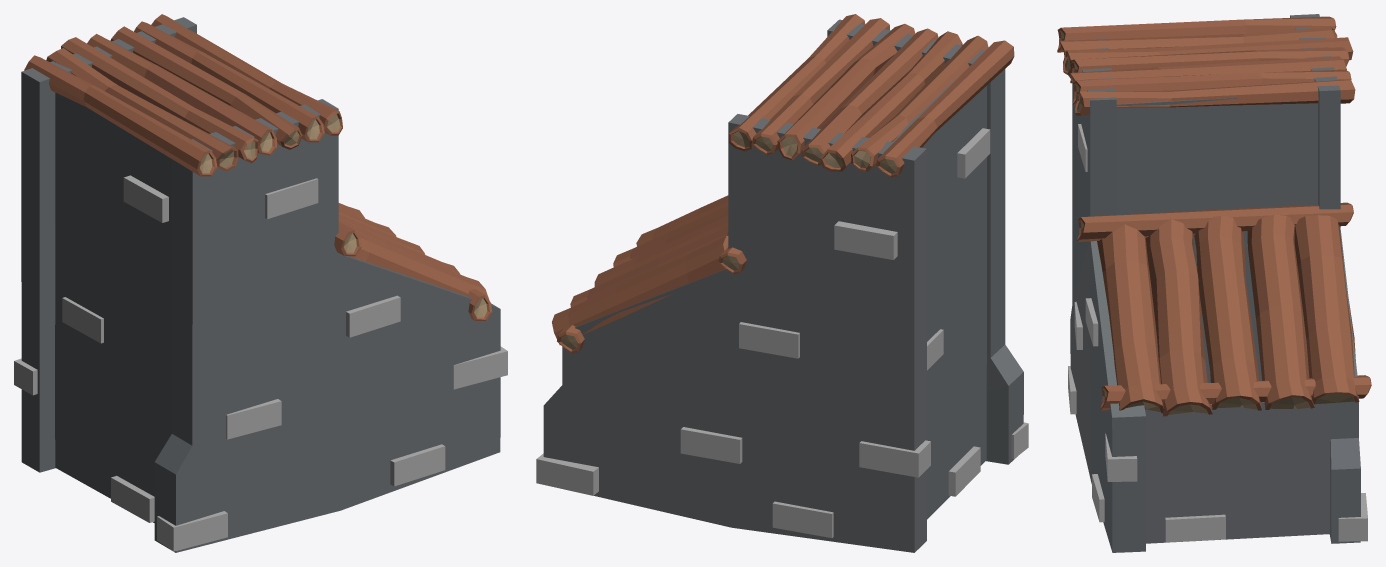
The model's file is DarkStoneBuildingSmallStoneTower1.fbx.
The picture shows the model from 3 angles, left to right: view 1: azimuth 30°, elevation 25°; view 2: azimuth 150°, elevation 25°; view 3: azimuth 270°, elevation 25°; orthographic projection. The views are drawn at different scales.
Visible parts, largest first — view 1: DarkStoneBuildingSmallStoneTower1; view 2: DarkStoneBuildingSmallStoneTower1; view 3: DarkStoneBuildingSmallStoneTower1.
Part boxes in pixels (x1,y1,x2,y2): DarkStoneBuildingSmallStoneTower1: [14, 14, 507, 552]; DarkStoneBuildingSmallStoneTower1: [536, 14, 1028, 552]; DarkStoneBuildingSmallStoneTower1: [1057, 14, 1371, 552].
Size of the model in its own units: 814 by 833 by 617.
